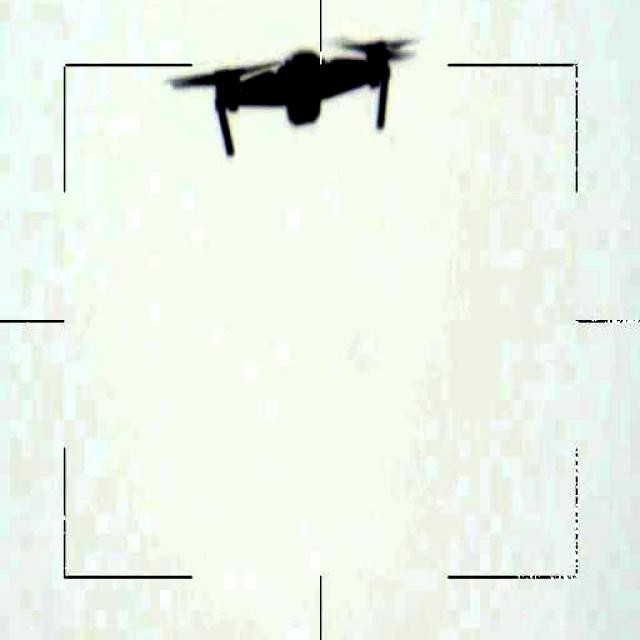bird: (160, 20, 421, 158)
